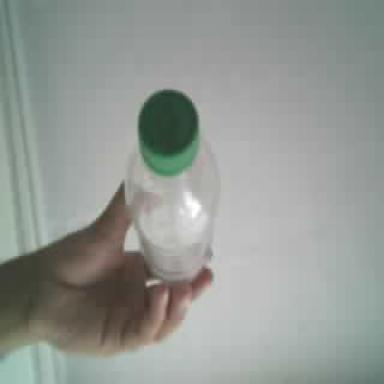bottle: (125, 91, 218, 278)
